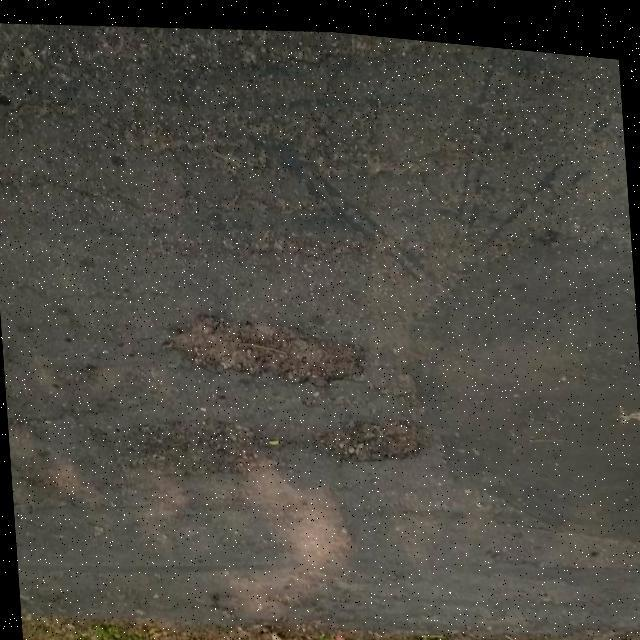pothole: (157, 291, 370, 397), (308, 398, 426, 466)
